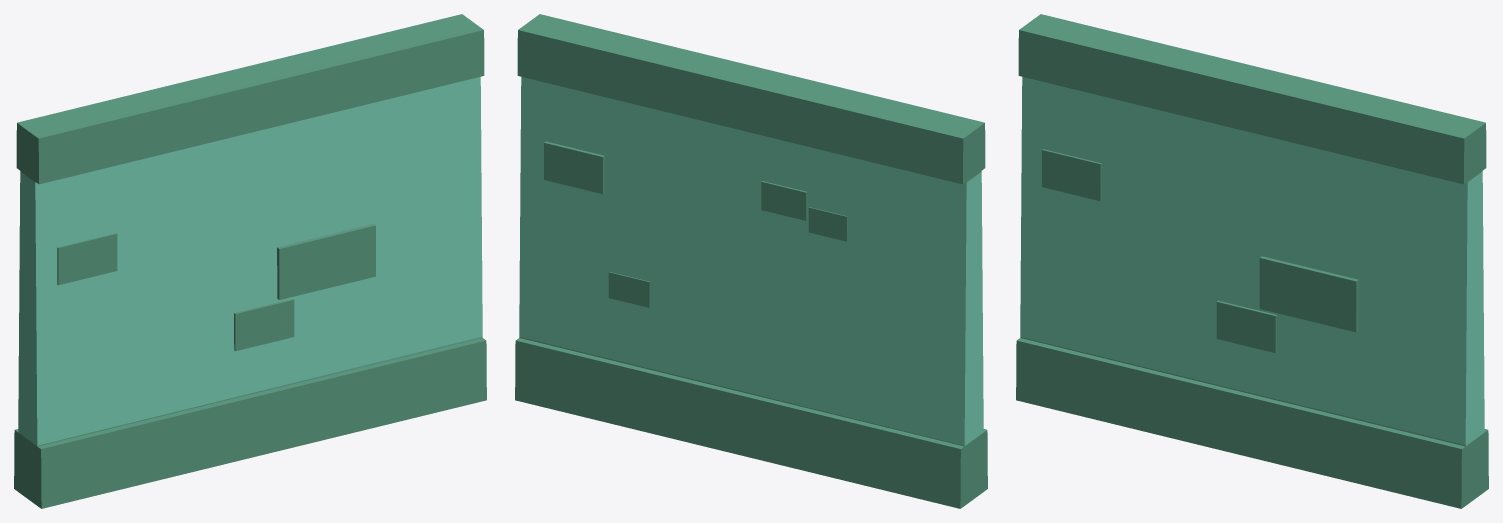
File: wall1.fbx
3 views of the same model, side by side, from view 1: azimuth 30°, elevation 25°; view 2: azimuth 150°, elevation 25°; view 3: azimuth 330°, elevation 25° (orthographic).
Visible parts, largest first — view 1: wall; view 2: wall; view 3: wall.
Part boxes in pixels (x1=…): wall: x1=14, y1=14, x2=486, y2=508; wall: x1=515, y1=14, x2=987, y2=508; wall: x1=1016, y1=14, x2=1488, y2=508.
Size of the model in its own units: 4.6 by 3.64 by 0.4923.
